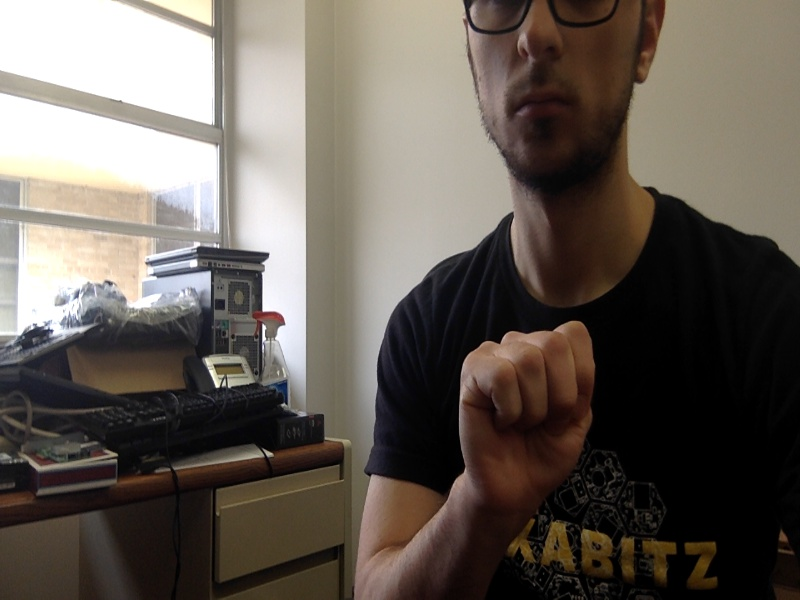0-hand: (457, 321, 597, 510)
